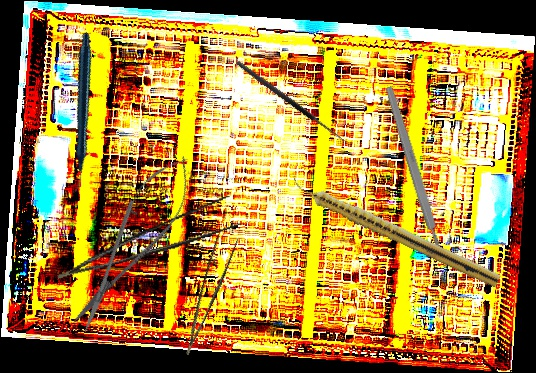Handpiece: (0, 31, 159, 195), (286, 173, 504, 289)
Hook Surgical: (234, 54, 352, 145)
Micro Scissor: (56, 143, 208, 343)
Scalpel Handle: (383, 85, 446, 258)
Tissue Forceps: (48, 194, 245, 280), (166, 227, 244, 356)
